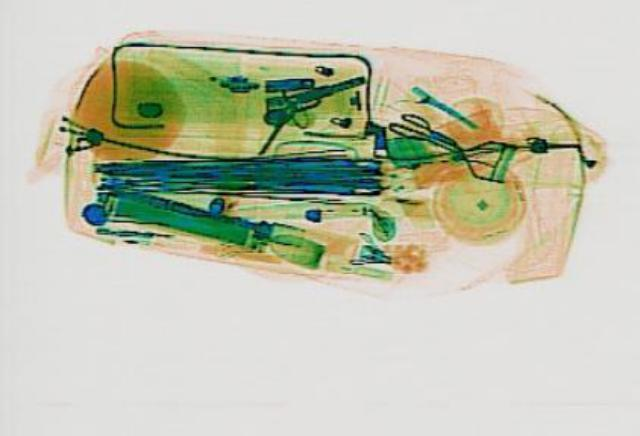Scissors: (384, 109, 460, 148)
